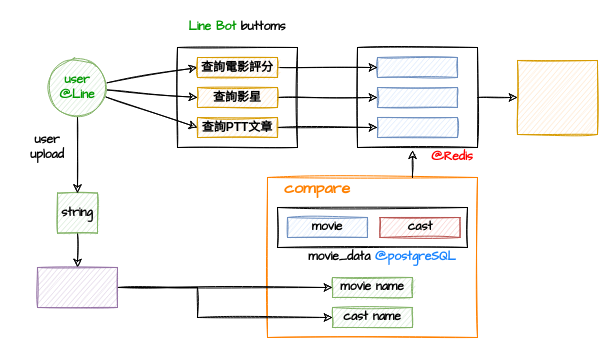
The diagram is 615 pixels wide and 355 high, and some of its shapes have lost their labels. The centre of each missing label's shape, as x and y in pixels:
"BERT" belongs at point 77,287.
"movies" belongs at point 417,97.
"response" belongs at point 557,97.
"scores" belongs at point 417,67.
"url" belongs at point 417,127.
